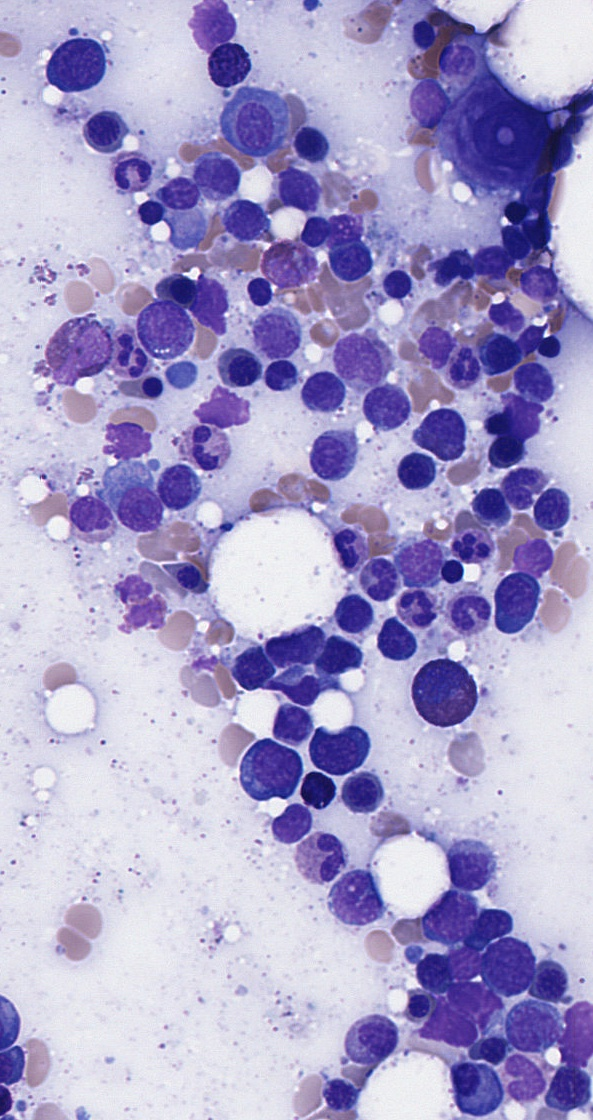objectness: (198, 35, 248, 85), (442, 1055, 492, 1105), (325, 876, 375, 926), (433, 343, 483, 393), (502, 1051, 552, 1101), (448, 524, 498, 574), (322, 524, 372, 574), (176, 424, 226, 474), (442, 580, 492, 630), (493, 459, 543, 509), (101, 139, 151, 189), (306, 828, 356, 878), (399, 577, 449, 627), (100, 329, 150, 379), (351, 1010, 401, 1060), (65, 488, 115, 538), (258, 244, 308, 294), (414, 657, 464, 707), (355, 554, 405, 604), (418, 402, 468, 452), (116, 577, 166, 627), (318, 203, 368, 253), (440, 938, 490, 988), (292, 765, 342, 815), (470, 397, 520, 447), (391, 535, 441, 585), (411, 316, 461, 366), (512, 202, 562, 252), (255, 348, 305, 398), (250, 306, 300, 356), (493, 185, 543, 235), (231, 97, 281, 147), (154, 165, 204, 215), (394, 5, 444, 55), (184, 278, 234, 328), (273, 162, 323, 212), (159, 347, 209, 397), (57, 322, 107, 372), (507, 533, 557, 583), (308, 635, 358, 685), (329, 587, 379, 637), (435, 34, 485, 84), (481, 287, 531, 337), (369, 612, 419, 662), (507, 1002, 557, 1052), (222, 645, 272, 695), (408, 947, 458, 997), (516, 255, 566, 305), (428, 240, 478, 290), (279, 620, 329, 670), (372, 259, 422, 309), (196, 383, 246, 433), (513, 170, 563, 220), (123, 187, 173, 237), (190, 148, 240, 198), (329, 331, 379, 381), (496, 387, 546, 437), (402, 78, 452, 128), (443, 980, 493, 1030), (442, 842, 492, 892), (276, 666, 326, 716), (235, 265, 285, 315), (104, 409, 154, 459), (418, 1003, 468, 1053), (504, 314, 554, 364), (527, 323, 577, 373), (488, 216, 538, 266), (114, 480, 164, 530), (468, 898, 518, 948), (303, 431, 353, 481), (152, 460, 202, 510), (263, 799, 313, 849), (467, 234, 517, 284), (297, 364, 347, 414), (313, 1070, 363, 1120), (289, 206, 339, 256), (219, 196, 269, 246), (509, 357, 559, 407), (267, 698, 317, 748), (360, 380, 410, 430), (322, 235, 372, 285), (218, 346, 268, 396), (482, 425, 532, 475), (313, 726, 363, 776), (476, 326, 526, 376), (530, 483, 580, 533), (163, 552, 213, 602), (47, 35, 97, 85), (281, 116, 331, 166), (390, 446, 440, 496), (426, 892, 476, 942), (248, 742, 298, 792), (338, 767, 388, 817), (393, 982, 443, 1032), (465, 478, 515, 528), (526, 957, 576, 1007), (125, 360, 175, 410), (157, 263, 207, 313), (495, 569, 545, 619), (468, 1024, 518, 1074), (76, 103, 126, 153), (137, 301, 187, 351), (478, 116, 528, 166), (188, 0, 238, 49), (544, 1063, 593, 1113), (550, 98, 593, 148), (553, 81, 593, 131), (555, 1009, 593, 1059)
